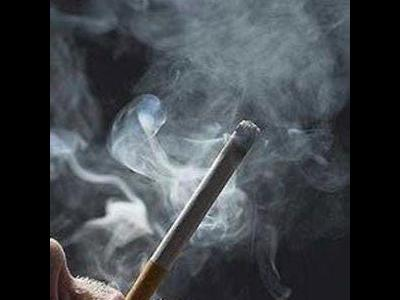Cigarette: (127, 118, 260, 300)
Smoke: (51, 0, 338, 276)
